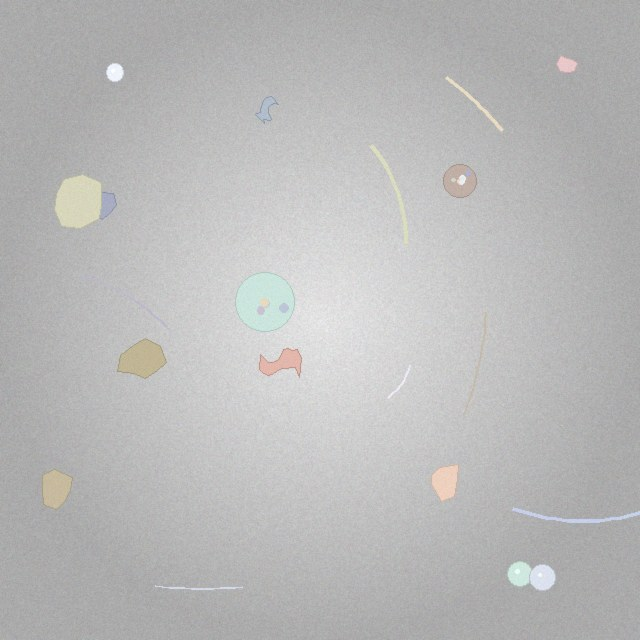fiber: (78, 271, 169, 329), (366, 141, 411, 248), (443, 73, 506, 135), (461, 310, 488, 417), (509, 504, 639, 525), (385, 364, 412, 400), (153, 583, 245, 591)
film: (259, 349, 301, 377), (255, 97, 279, 124)
foam: (235, 272, 294, 331), (444, 165, 477, 198)
fragment: (55, 175, 102, 228), (118, 339, 167, 379), (42, 469, 73, 509), (431, 465, 459, 501), (89, 193, 116, 220), (557, 56, 577, 72)
pellet: (507, 561, 532, 586), (530, 565, 555, 590), (106, 64, 124, 81)
